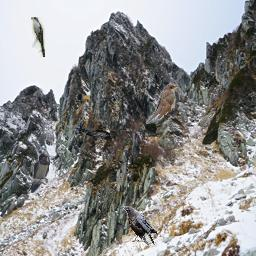Crow: (122, 206, 157, 246), (76, 126, 116, 140)
Cuckoo: (146, 84, 178, 124), (31, 17, 45, 57)
Swallow: (28, 153, 49, 193)
